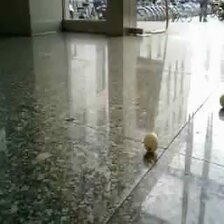w: (143, 132, 160, 153)
